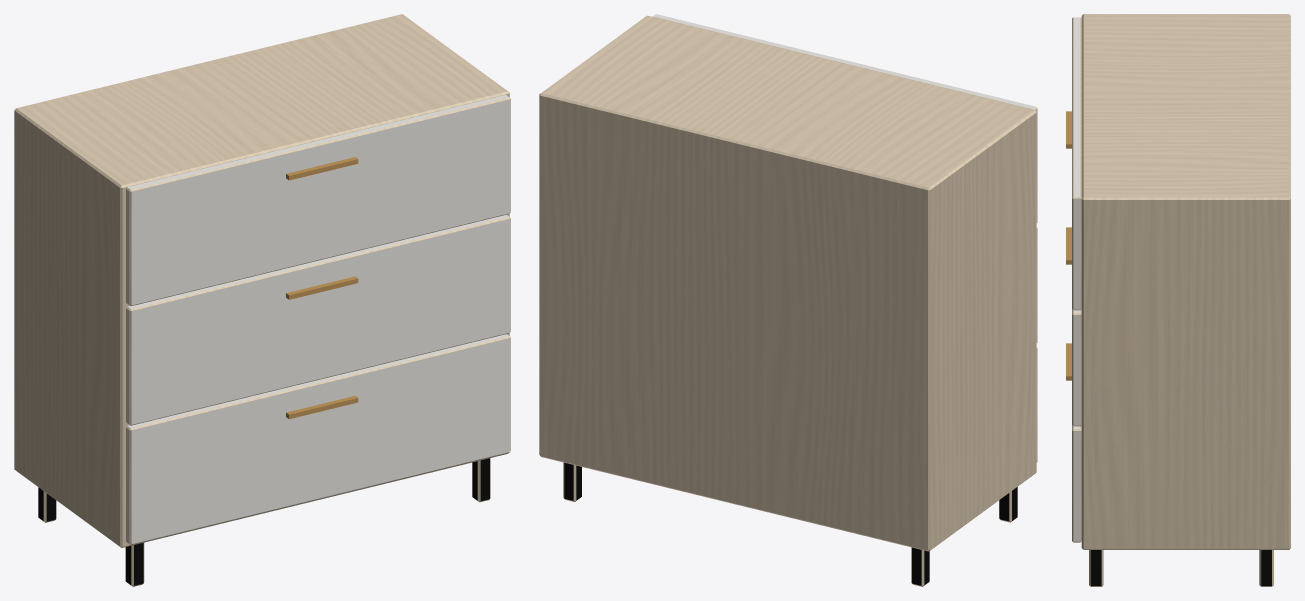
Rendered from cabinet.glb.
3 renders of one model, left to right at view 1: azimuth 30°, elevation 25°; view 2: azimuth 150°, elevation 25°; view 3: azimuth 270°, elevation 25°, orthographic. The views are drawn at different scales.
Visible parts, largest first — view 1: cabinet; view 2: cabinet; view 3: cabinet.
Boxes of the visible parts, <box> form: cabinet: <box>14,14,510,586</box>; cabinet: <box>539,14,1037,586</box>; cabinet: <box>1066,14,1290,586</box>.
Size of the model in its own units: 0.9 by 0.9 by 0.462.
Materials: 4 (1 with a texture image).
